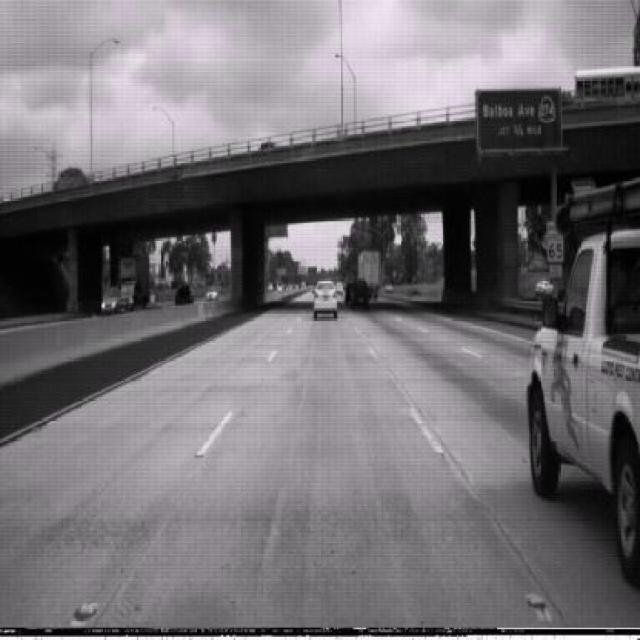speedLimit65: (546, 217, 565, 263)
